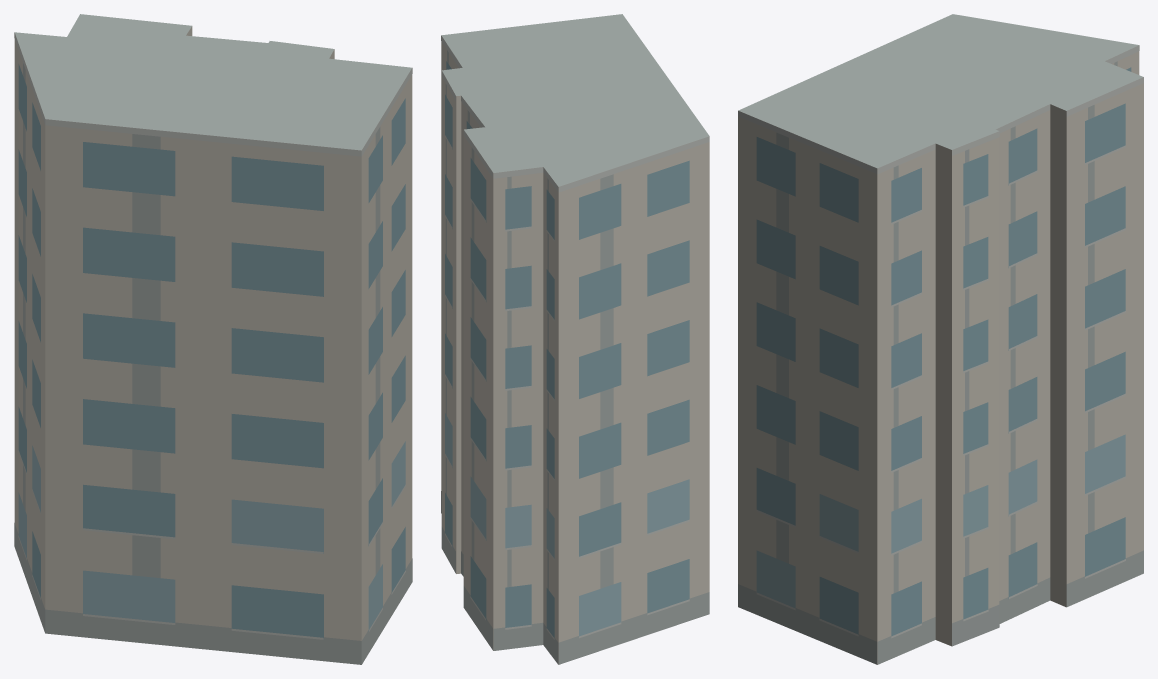
File: survey-upis-32832971.glb
The picture shows the model from 3 angles, left to right: view 1: azimuth 30°, elevation 25°; view 2: azimuth 150°, elevation 25°; view 3: azimuth 270°, elevation 25°; orthographic projection. The views are drawn at different scales.
Parts seen in each view (by area): view 1: survey-upis-32832971.tmp; view 2: survey-upis-32832971.tmp; view 3: survey-upis-32832971.tmp.
Part boxes in pixels (x1=…): survey-upis-32832971.tmp: x1=14, y1=14, x2=412, y2=664; survey-upis-32832971.tmp: x1=441, y1=14, x2=709, y2=664; survey-upis-32832971.tmp: x1=738, y1=14, x2=1143, y2=664.
Size of the model in its own units: 13.55 by 20.3 by 15.04.
